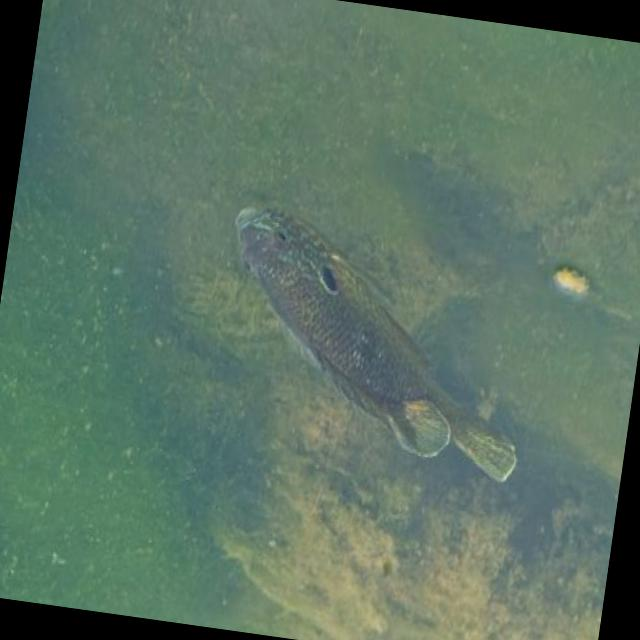Gunes Levregi: (201, 195, 548, 488)
